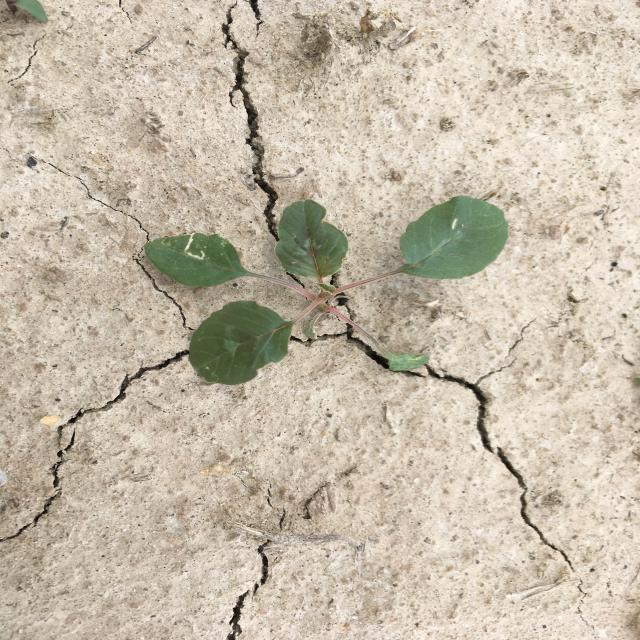PalmerAmaranth: (144, 195, 509, 385)
